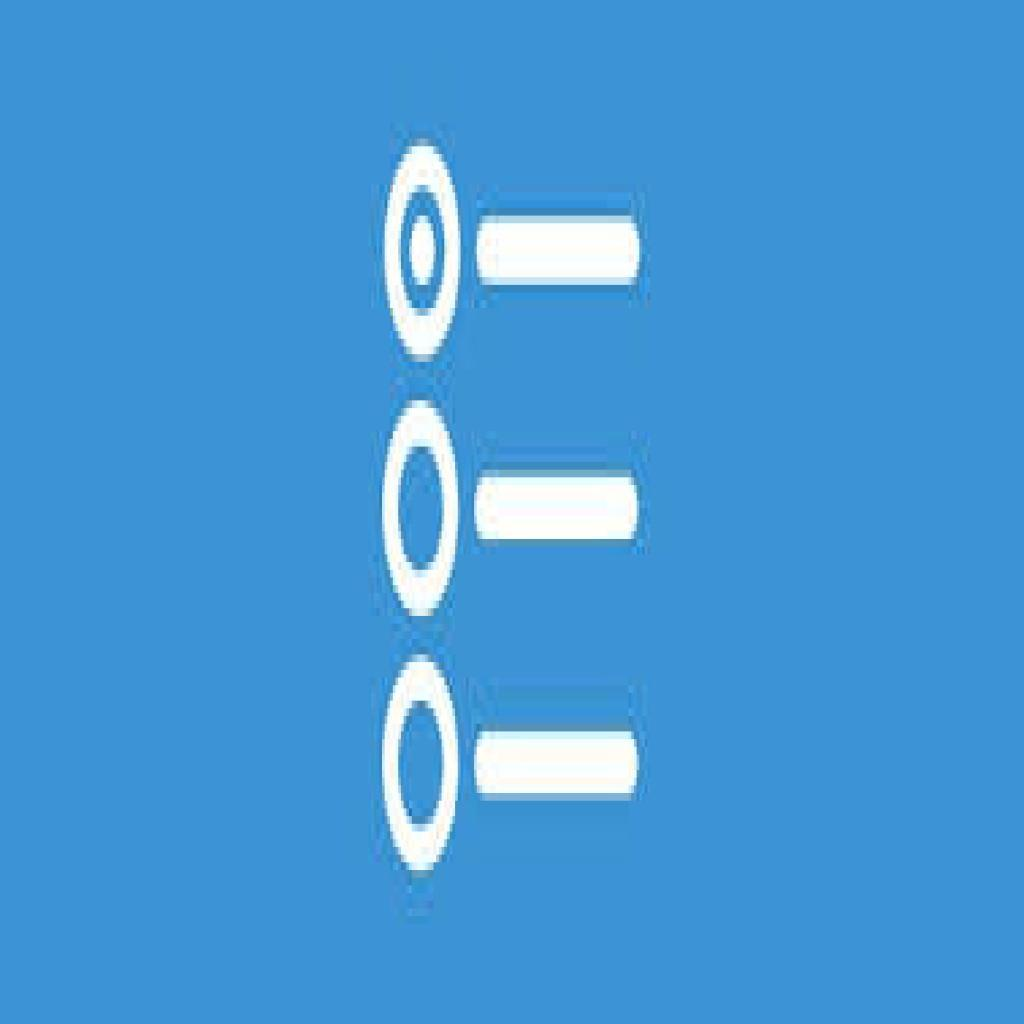label: (468, 720, 653, 807), (471, 470, 645, 549), (475, 211, 646, 290)
radio: (379, 133, 469, 389), (378, 637, 462, 908), (378, 383, 463, 633)
